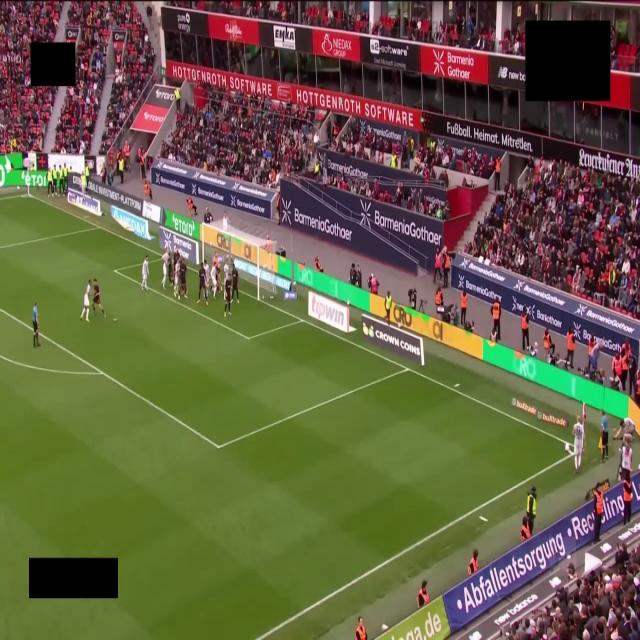ball: (565, 443, 569, 452)
player: (573, 416, 584, 472), (619, 434, 632, 480), (92, 279, 105, 318), (197, 261, 208, 305), (614, 418, 635, 439), (600, 410, 608, 463), (81, 280, 91, 321), (161, 249, 170, 288), (174, 258, 182, 299), (210, 254, 217, 298), (224, 275, 231, 317), (141, 255, 149, 291), (180, 261, 187, 298), (173, 249, 180, 284), (232, 263, 238, 303), (216, 262, 222, 292), (224, 258, 231, 279)
referee: (32, 303, 40, 347)
